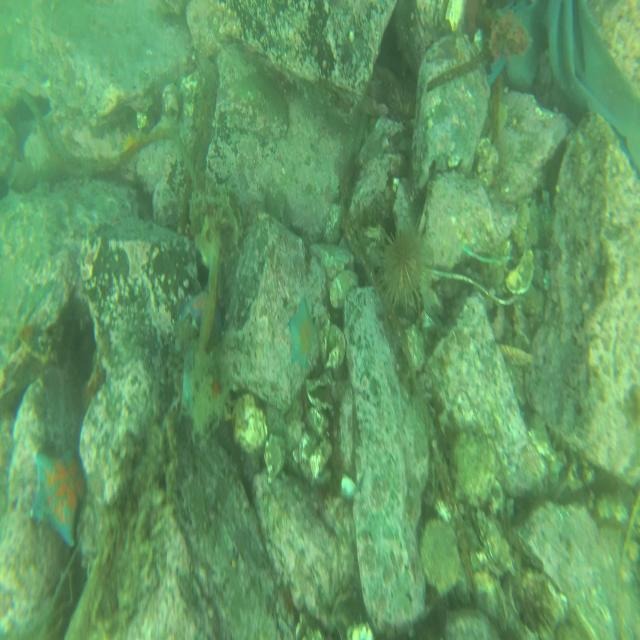echinus: (379, 228, 428, 308)
starfish: (30, 449, 86, 547), (286, 298, 320, 372), (181, 288, 224, 337)
